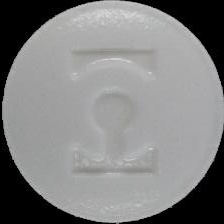63459-205: (0, 0, 224, 224)
